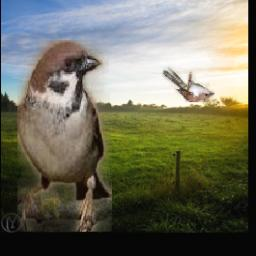Cuckoo: (162, 67, 214, 102)
Sparrow: (17, 40, 112, 232)
